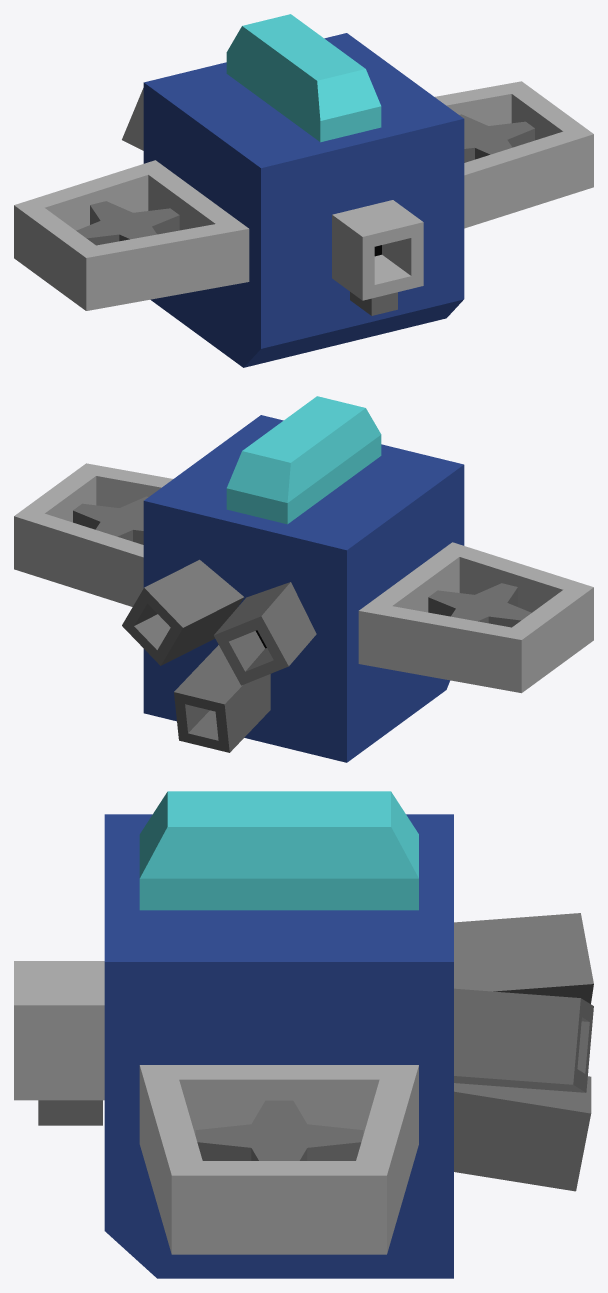
The model's file is PEW.fbx.
3 renders of one model, top to bottom at view 1: azimuth 30°, elevation 25°; view 2: azimuth 150°, elevation 25°; view 3: azimuth 270°, elevation 25°, orthographic. The views are drawn at different scales.
Parts seen in each view (by area): view 1: Body, RightWing, LeftWing, Cannon, RightRotor, LeftRotor, Propulsor; view 2: Body, RightWing, Propulsor, LeftWing, RightRotor, LeftRotor; view 3: Body, LeftWing, Propulsor, Cannon, LeftRotor.
Boxes of the visible parts, box(x1,y1,x2,y2) form: Body: box(143, 14, 464, 367); RightWing: box(14, 160, 249, 310); LeftWing: box(435, 81, 593, 228); Cannon: box(332, 200, 423, 315); RightRotor: box(76, 201, 179, 245); LeftRotor: box(459, 114, 534, 162); Propulsor: box(122, 88, 143, 150); Body: box(143, 396, 464, 762); RightWing: box(358, 542, 593, 693); Propulsor: box(122, 559, 316, 752); LeftWing: box(14, 463, 172, 606); RightRotor: box(428, 583, 531, 627); LeftRotor: box(73, 496, 148, 544); Body: box(104, 791, 453, 1278); LeftWing: box(139, 1065, 418, 1254); Propulsor: box(454, 913, 593, 1191); Cannon: box(14, 961, 104, 1125); LeftRotor: box(195, 1100, 363, 1160).
Bounding box in the file's own units: 500 × 250 × 332.
